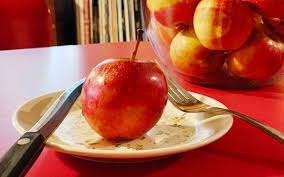apple: (85, 55, 164, 139), (167, 27, 223, 80), (196, 2, 247, 50)
